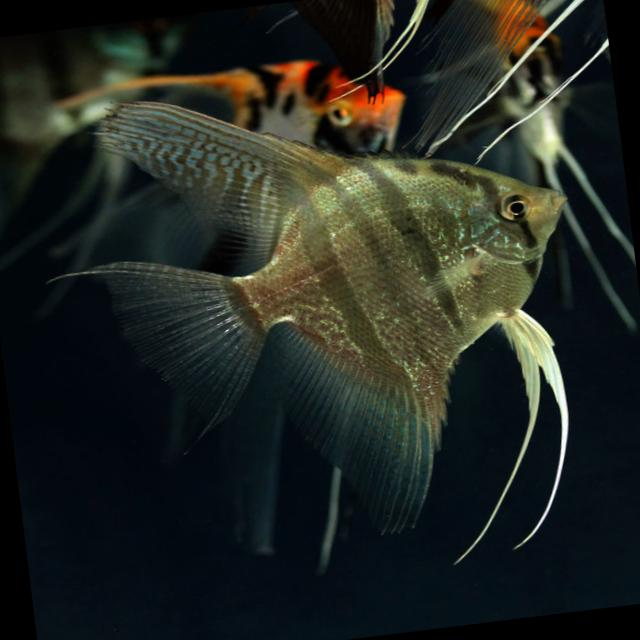AngelFish: (31, 48, 608, 602)
